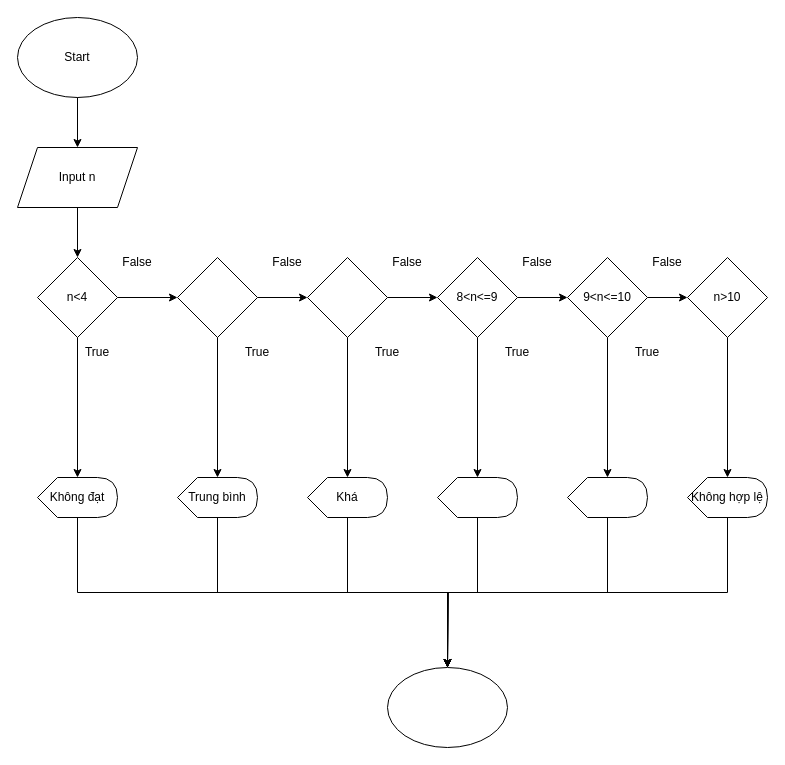
The diagram is 785 pixels wide and 765 high, and some of its shapes have lost their labels. The shapes that lost their labels are listed below. From the top down, each one's box as (x1, y1, x2, y2) in pixels, then its label:
(176, 256, 258, 338): 4<=n<=6
(306, 256, 388, 338): 6<n<=8
(436, 476, 518, 518): Giỏi
(566, 476, 648, 518): Xuất sắc
(386, 666, 508, 748): End
